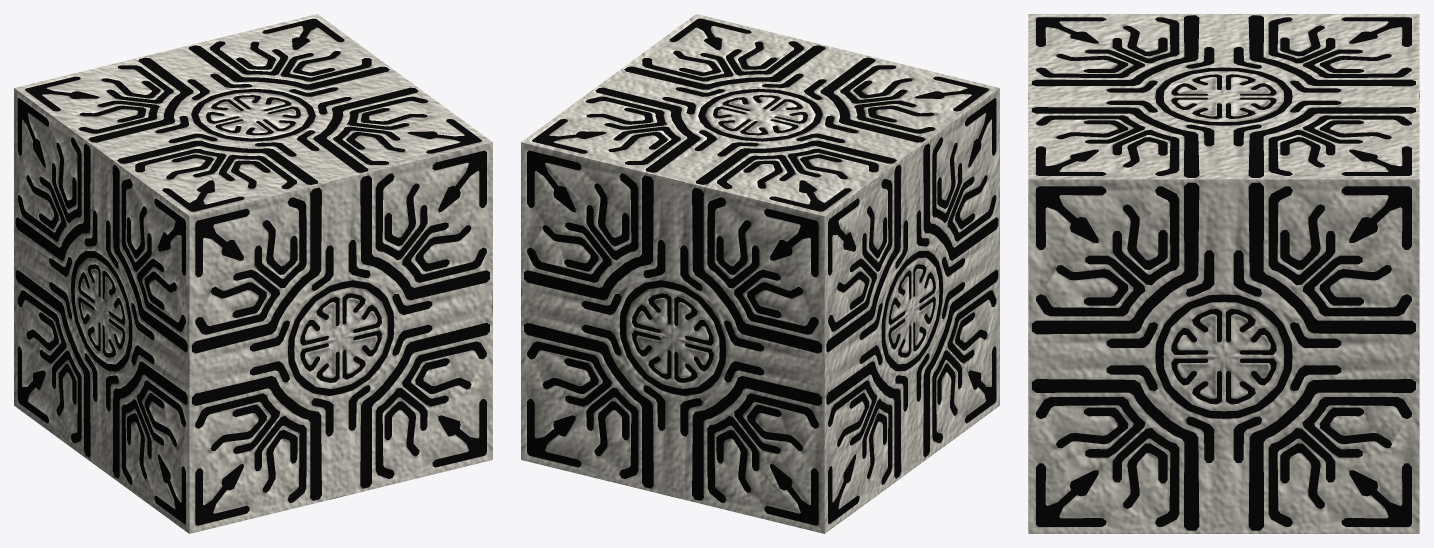
3 views of the same model, side by side, from view 1: azimuth 30°, elevation 25°; view 2: azimuth 150°, elevation 25°; view 3: azimuth 270°, elevation 25° (orthographic). The views are drawn at different scales.
Parts seen in each view (by area): view 1: 1_object1base, 1_object1baseaura; view 2: 1_object1base, 1_object1baseaura; view 3: 1_object1base, 1_object1baseaura.
Boxes of the visible parts, x1=… form: 1_object1base: x1=14, y1=14, x2=492, y2=533; 1_object1baseaura: x1=15, y1=18, x2=492, y2=525; 1_object1base: x1=521, y1=14, x2=999, y2=533; 1_object1baseaura: x1=521, y1=18, x2=998, y2=533; 1_object1base: x1=1028, y1=14, x2=1419, y2=533; 1_object1baseaura: x1=1028, y1=15, x2=1419, y2=530.
Bounding box in the file's own units: 8.51 × 8.51 × 8.51.
2 materials, 2 textured.
